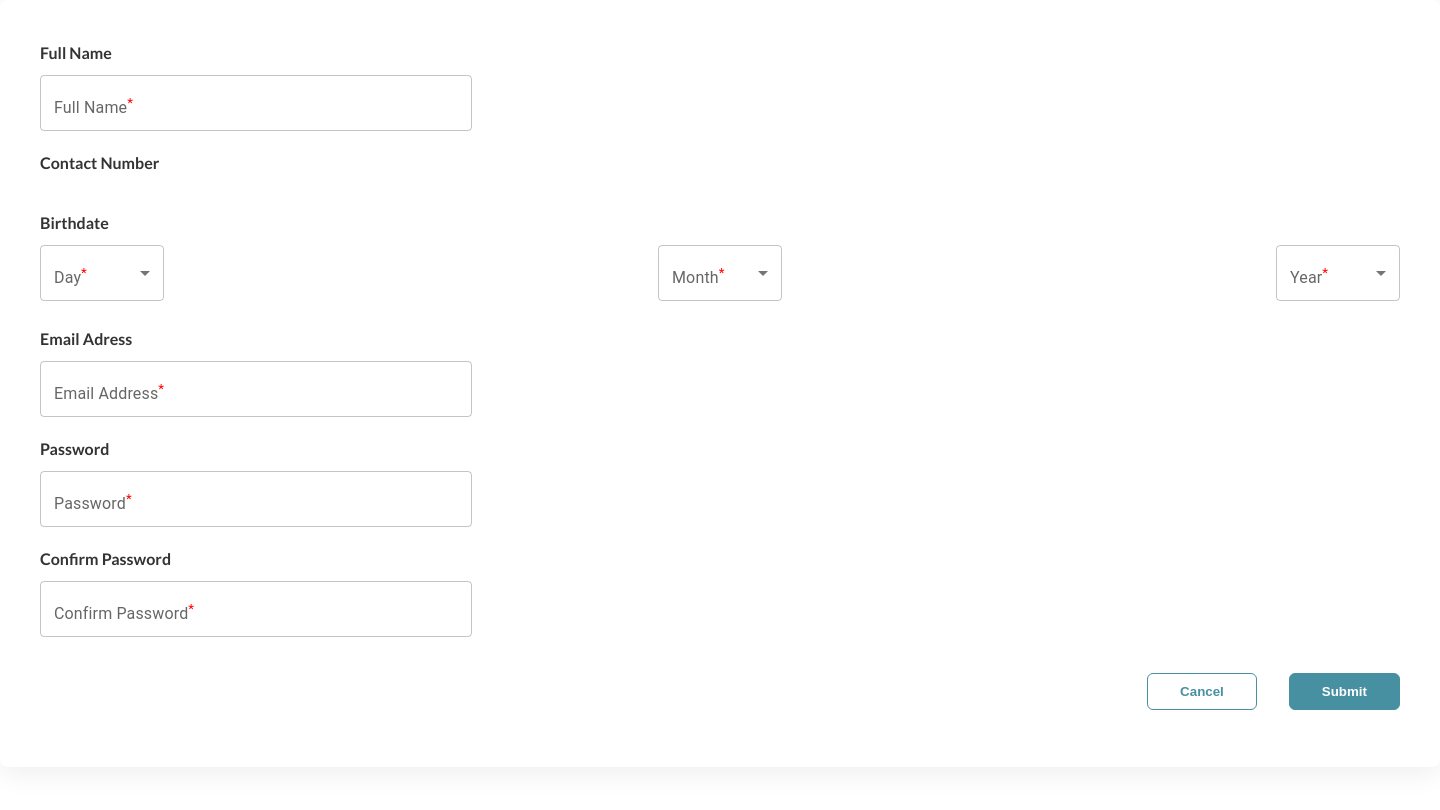
Test: Test create user form: › test Email
change input field
In the field labelled "Email Address*": x=256, y=389 [40,361,472,417], type "some1ncorrectin9ut"
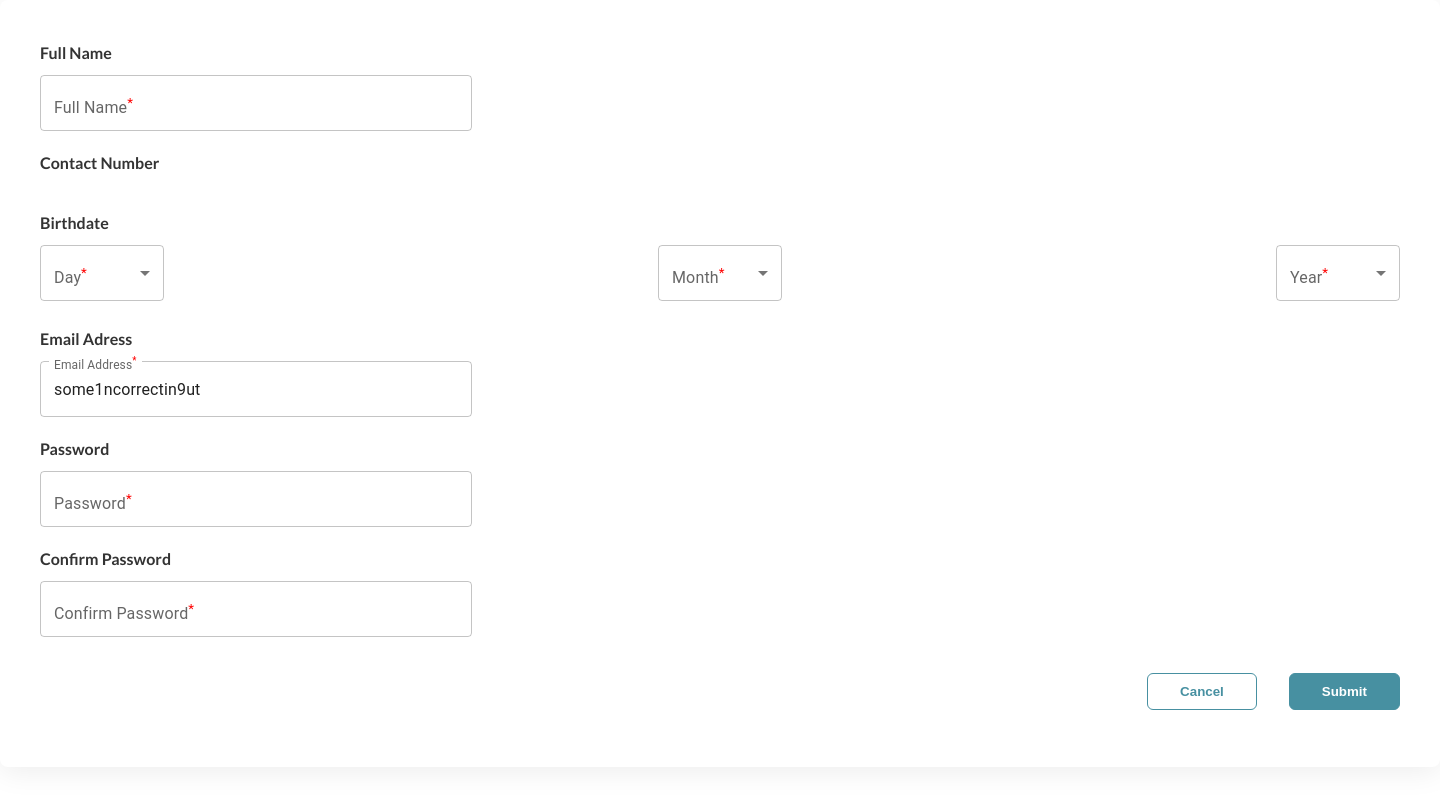
Expected: the text "Sorry, this email address is not valid. Please try again." is not shown
click on submit
Click the button "Submit": x=1344, y=692 [1289,673,1400,710]
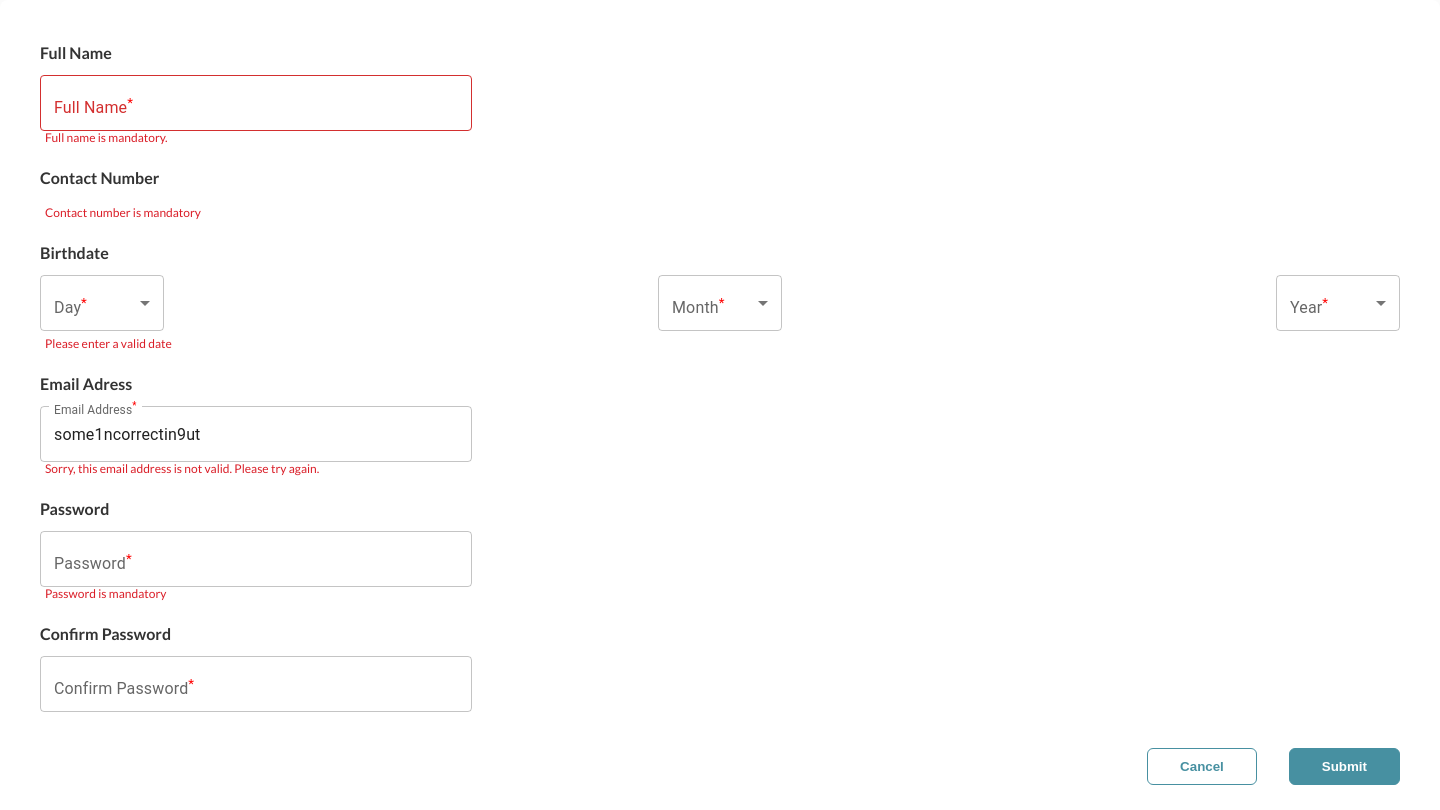
Now the text "Sorry, this email address is not valid. Please try again." is shown, box [45,461,319,476]
